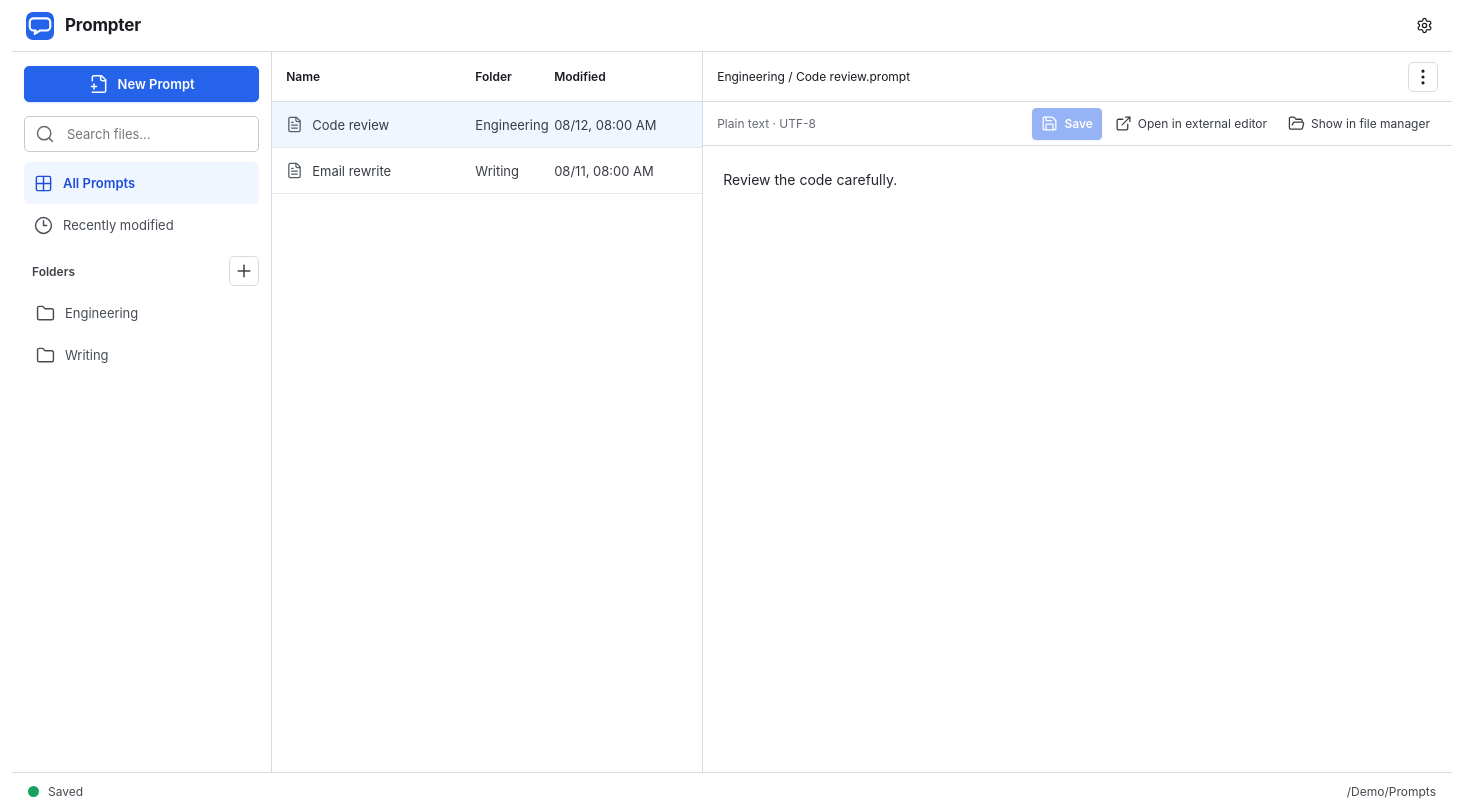
Test: Manager › shows a visible error when openPrompt fails
The image size is (1464, 810).
Expected: the text box showing "Review the code carefully." is shown, [703,146,1452,772]
What coordinates should you click on to do the following:
click the button "Open in external editor"
I would click on:
 (1191, 124)
Its box is [1107,109,1275,138].
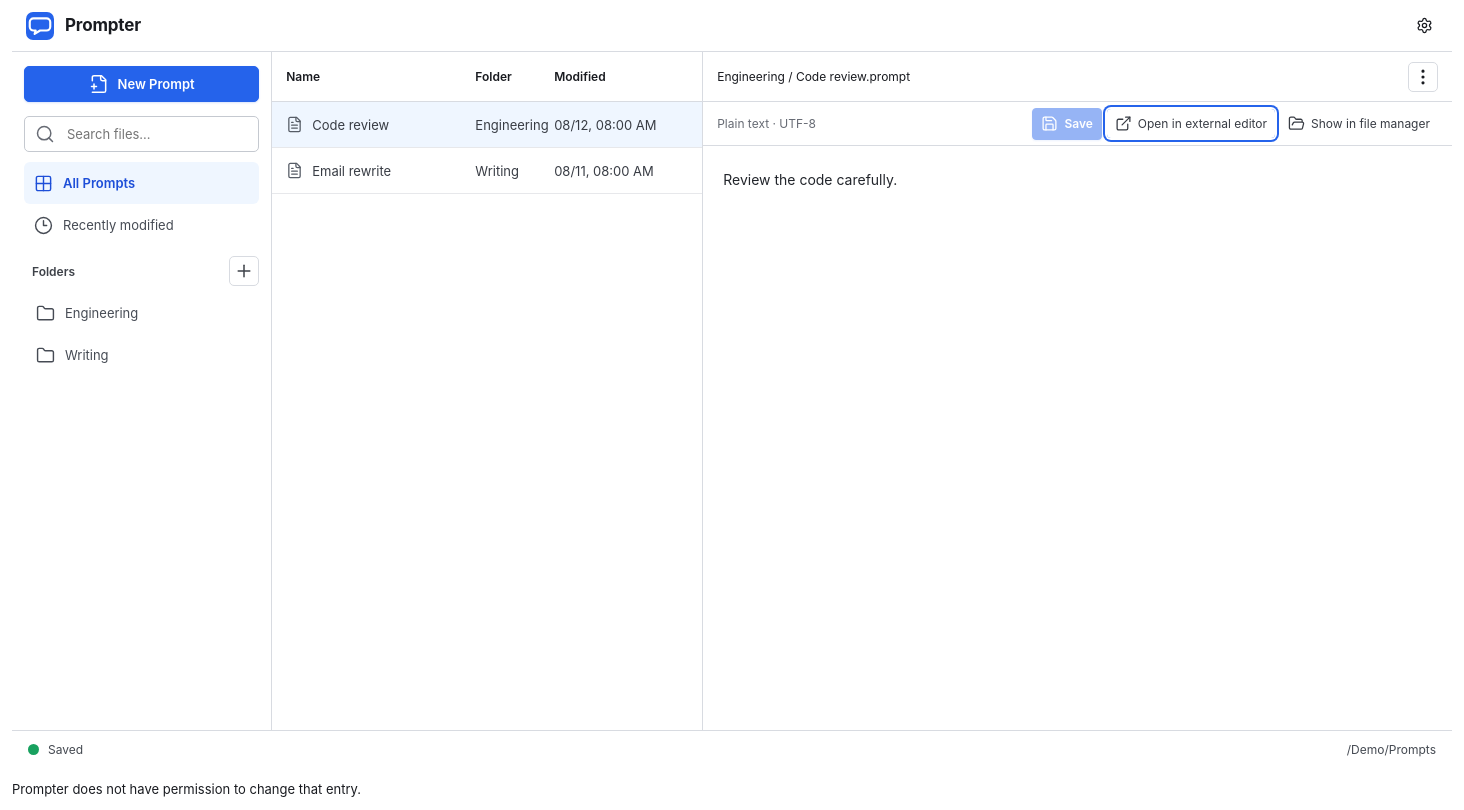
Result: the text "Prompter does not have permission to change that entry." is shown at [12,781,361,797]
